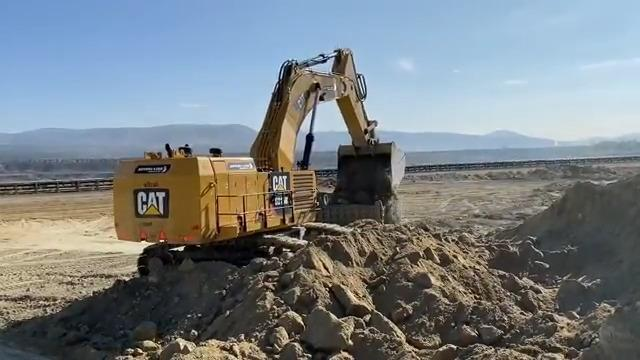excavator: (114, 50, 405, 257)
